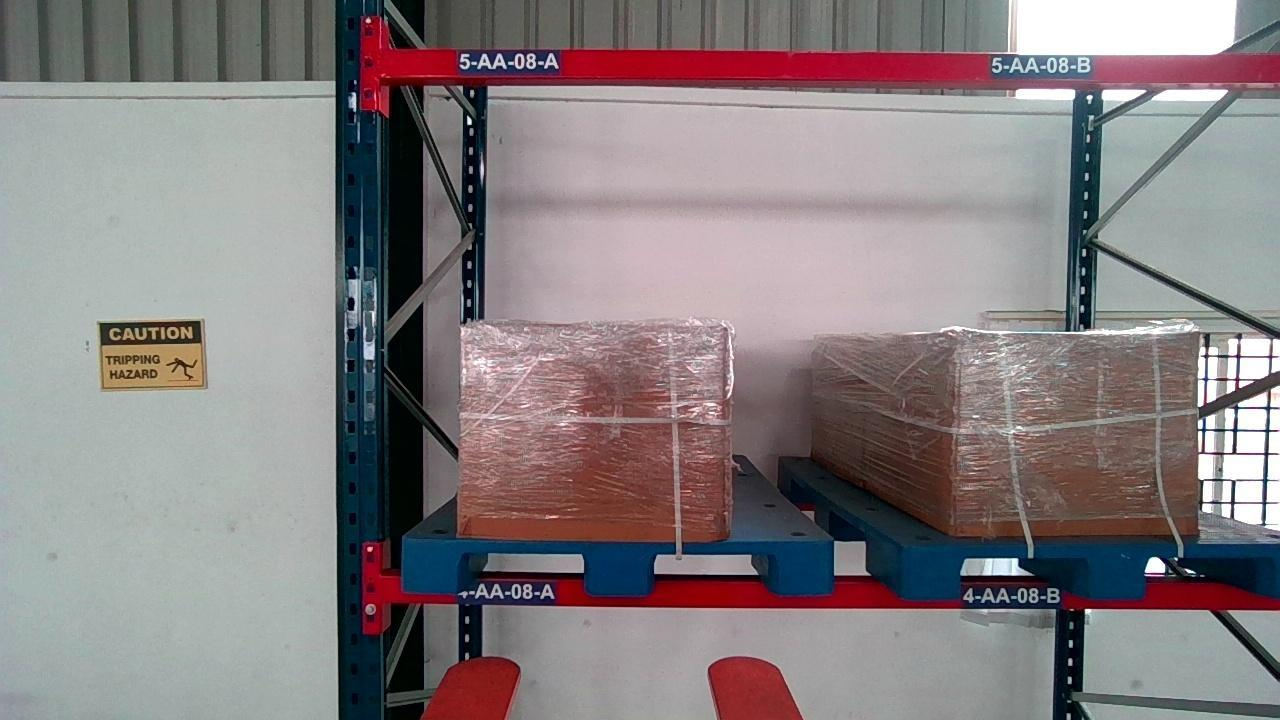h_rack: (383, 48, 1279, 84), (383, 573, 1276, 608)
small_pallet: (401, 538, 835, 593), (901, 545, 1280, 598)
